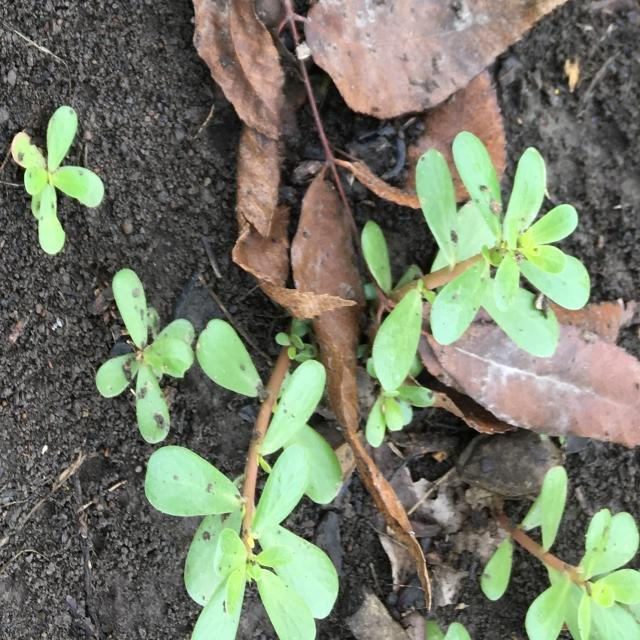Purslane: (354, 132, 591, 449), (144, 318, 343, 640), (480, 466, 640, 640), (96, 269, 196, 443), (11, 105, 104, 255)
